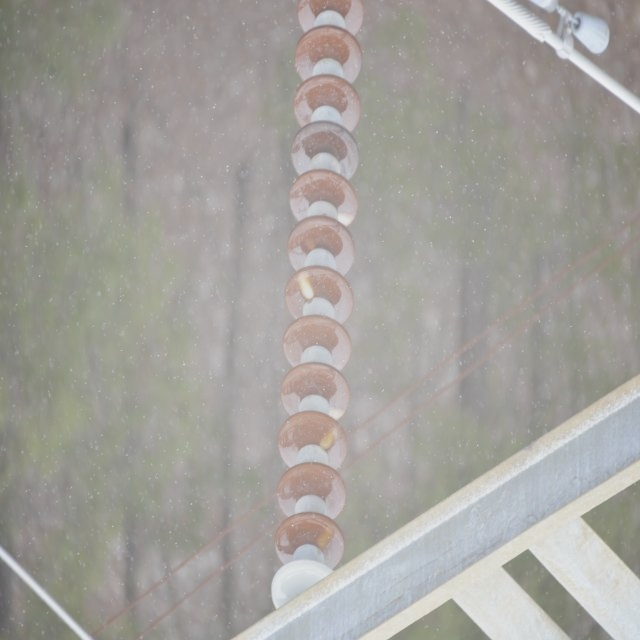insulator: (272, 0, 364, 614)
